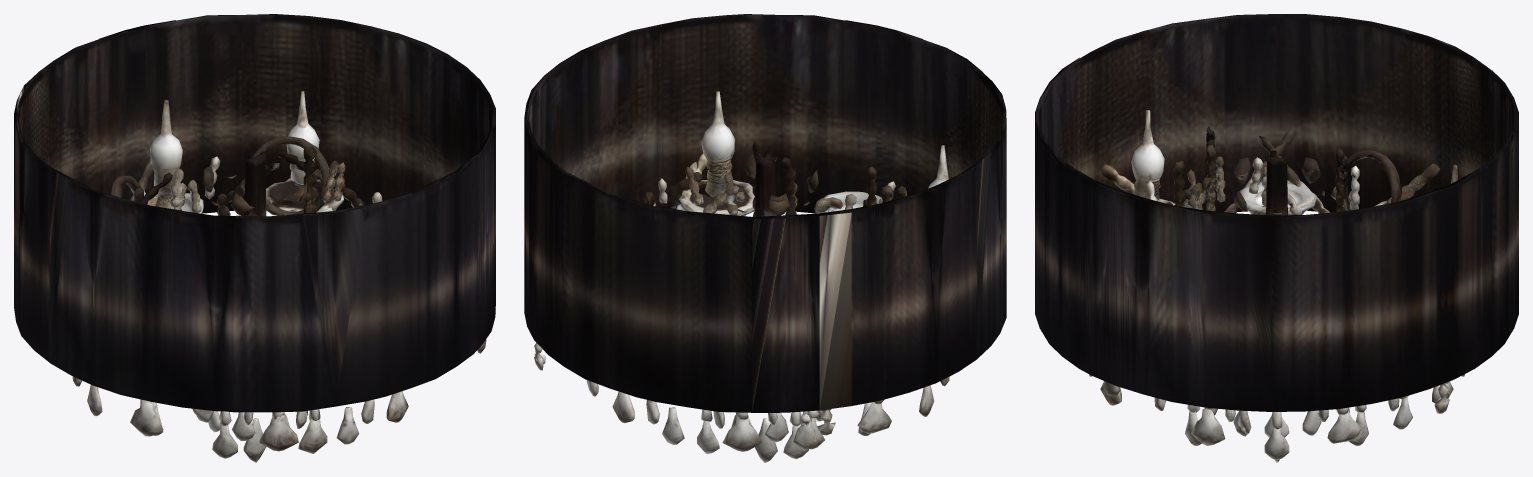
Rendered from CHANDELIER_BLACK_SILK_17InchesTall_Roof HightMount_0222184421_texture.glb.
The picture shows the model from 3 angles, left to right: view 1: azimuth 30°, elevation 25°; view 2: azimuth 150°, elevation 25°; view 3: azimuth 270°, elevation 25°; orthographic projection.
Parts seen in each view (by area): view 1: Mesh_0; view 2: Mesh_0; view 3: Mesh_0.
Part boxes in pixels (x1,y1,x2,y2): Mesh_0: (14,14,495,462); Mesh_0: (524,14,1006,462); Mesh_0: (1035,14,1518,462).
Bounding box in the file's own units: 0.5414 × 0.4318 × 0.5441.
Materials: 1 (1 with a texture image).
